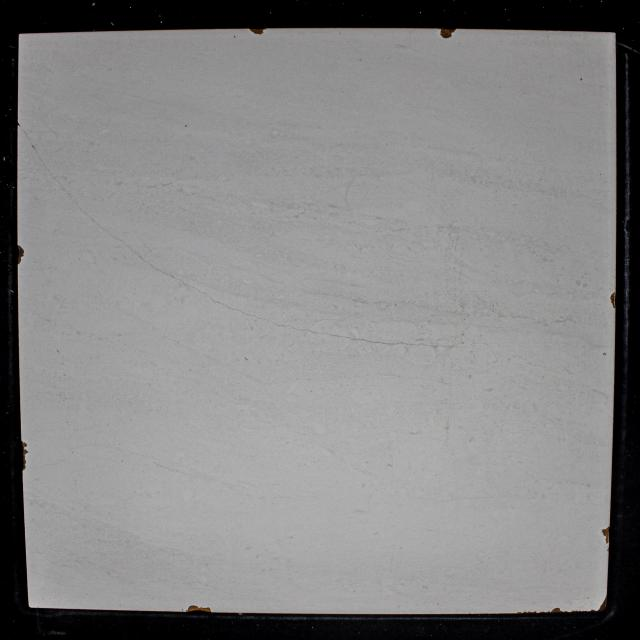edge-chipping: (20, 439, 29, 472), (186, 605, 213, 613), (16, 243, 25, 266), (440, 27, 456, 39), (598, 596, 608, 612), (602, 526, 610, 544), (248, 28, 267, 35), (610, 291, 617, 309), (550, 607, 568, 614), (16, 122, 21, 126)
hole: (185, 124, 187, 128)
line: (282, 324, 454, 348), (108, 233, 176, 280), (180, 281, 263, 319), (28, 134, 66, 190), (67, 193, 107, 233)
